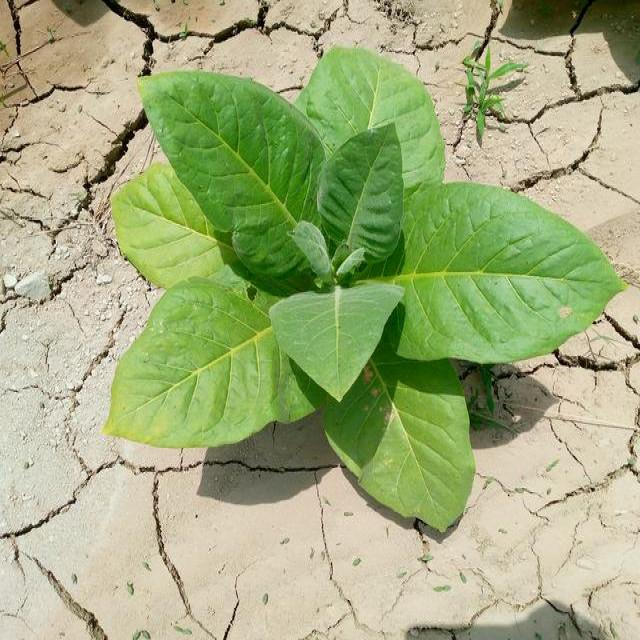crop: (103, 48, 619, 523)
